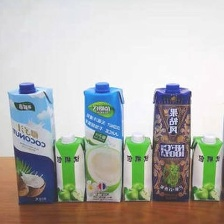carton: (5, 79, 57, 204), (82, 78, 123, 206), (150, 81, 192, 202), (52, 132, 88, 203), (190, 132, 224, 203), (123, 131, 152, 204)
